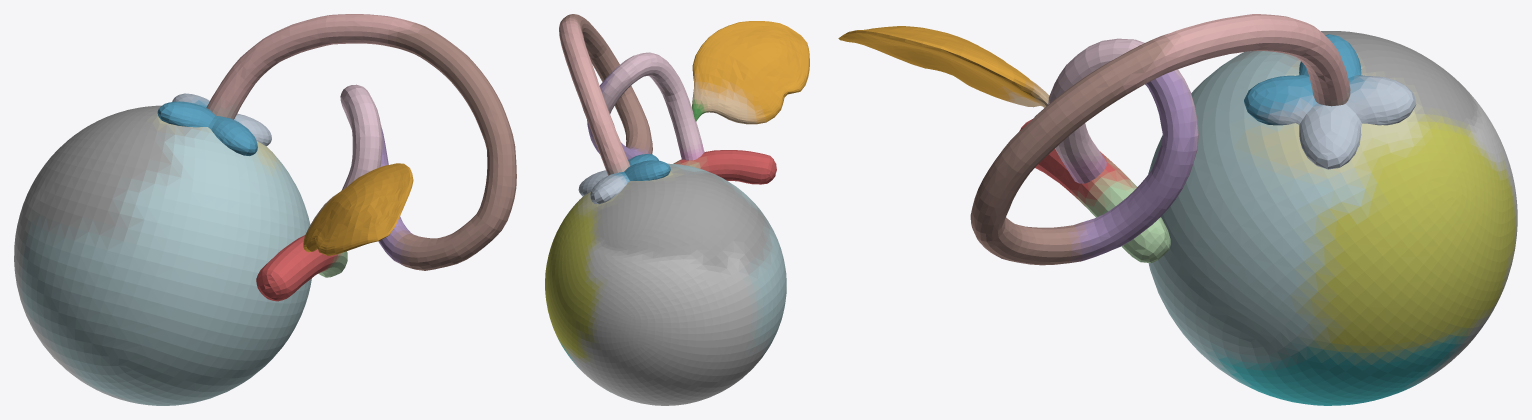
The picture shows the model from 3 angles, left to right: view 1: azimuth 30°, elevation 25°; view 2: azimuth 150°, elevation 25°; view 3: azimuth 270°, elevation 25°; orthographic projection. The views are drawn at different scales.
Parts seen in each view (by area): view 1: world; view 2: world; view 3: world.
Boxes of the visible parts, bbox=[...] form: world: bbox=[14, 14, 516, 405]; world: bbox=[545, 14, 809, 405]; world: bbox=[838, 14, 1517, 405].
Size of the model in its own units: 1.36 by 1.36 by 1.8.
